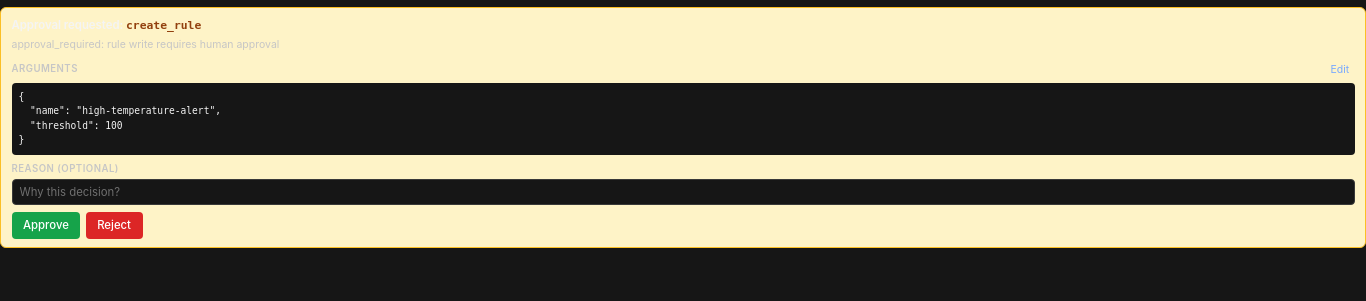
Scenario: PendingApprovalSection › modify path › Cancel returns to the approve / reject layout without firing
Click the button with test id "approval-edit-args" at (1340, 70), box left=1325, top=60, right=1354, bottom=79
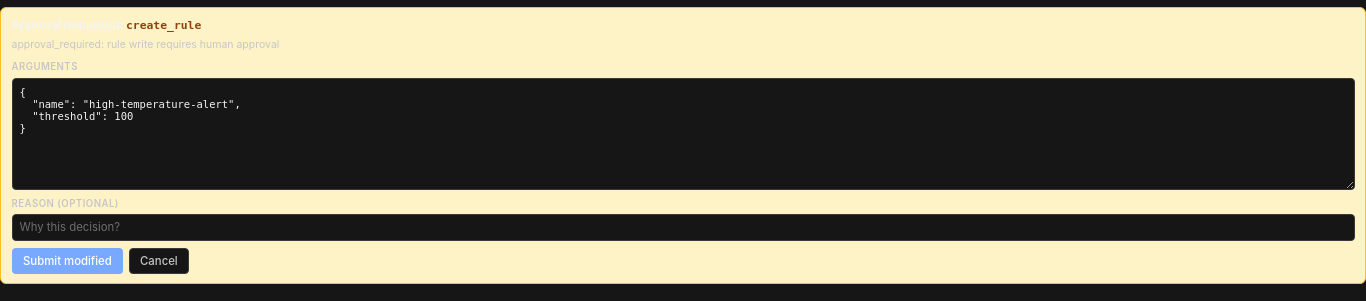
Click the button with test id "approval-cancel-edit" at (159, 261), box left=128, top=248, right=189, bottom=274
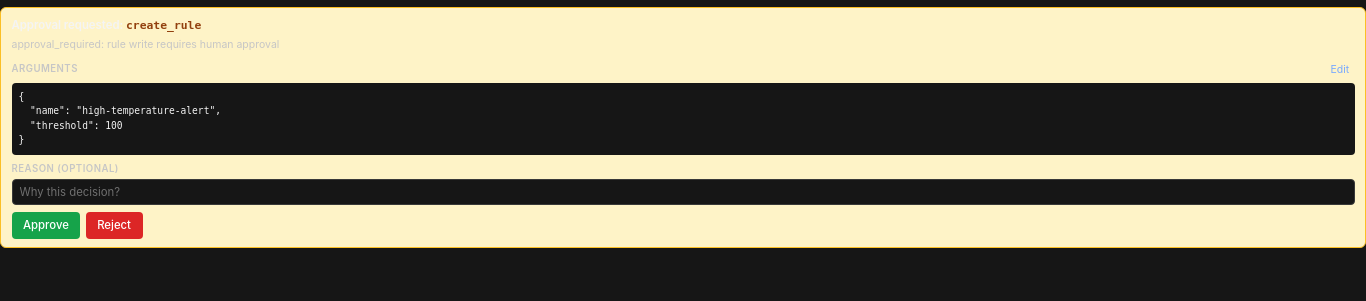
Expected: the text box with test id "approval-args-editor" is gone
Expected: the button with test id "approval-approve" is shown, left=12, top=212, right=80, bottom=239
Expected: the button with test id "approval-reject" is shown, left=86, top=212, right=142, bottom=239
